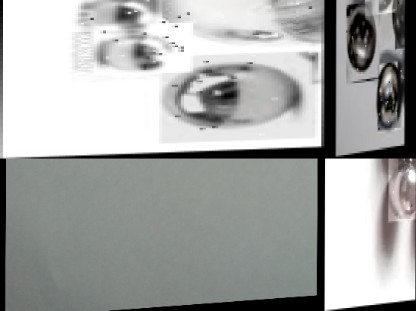ironball: (157, 53, 314, 145), (142, 0, 324, 60), (89, 23, 189, 76), (68, 0, 158, 33), (345, 1, 378, 85), (387, 158, 415, 224), (376, 63, 400, 135), (307, 44, 323, 87), (396, 54, 404, 131), (363, 0, 396, 18), (394, 0, 404, 53), (397, 158, 415, 173)
